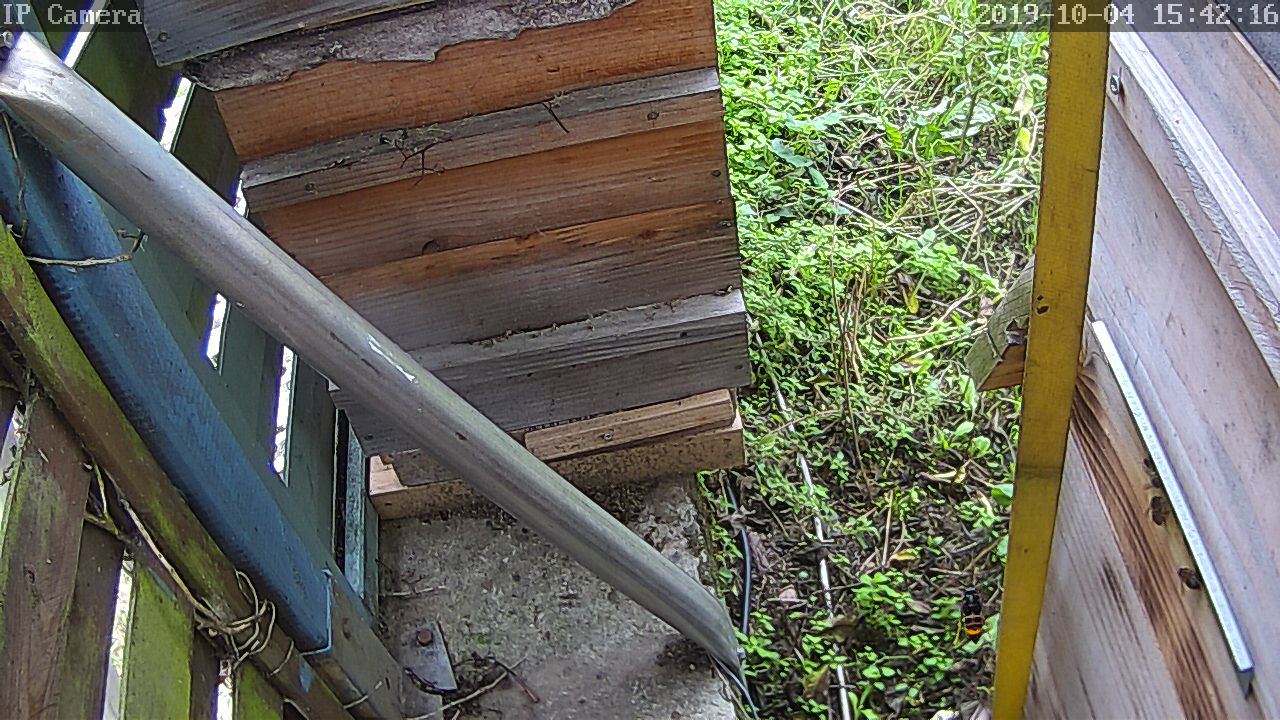bee: (1174, 559, 1214, 600), (1142, 491, 1178, 528), (1134, 452, 1166, 490)
hornet: (951, 583, 995, 644)
